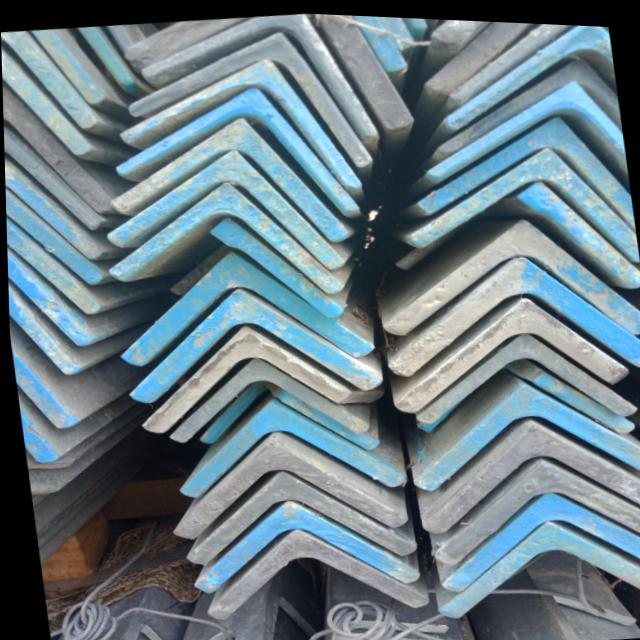metal-angles: (125, 27, 370, 162), (375, 213, 640, 336), (386, 251, 640, 372), (121, 58, 358, 187), (115, 86, 357, 211), (110, 117, 345, 238), (125, 287, 376, 398), (391, 291, 627, 409), (118, 251, 369, 361), (109, 149, 340, 266), (405, 142, 638, 256), (111, 181, 340, 290), (416, 110, 633, 225), (410, 380, 640, 486), (419, 418, 640, 528), (170, 437, 404, 537), (431, 453, 640, 560), (182, 468, 415, 563), (177, 402, 405, 496), (191, 498, 416, 592), (142, 326, 347, 429), (426, 73, 625, 177), (435, 516, 640, 615), (203, 527, 426, 618), (440, 486, 640, 587), (414, 331, 633, 419), (166, 359, 364, 441)
